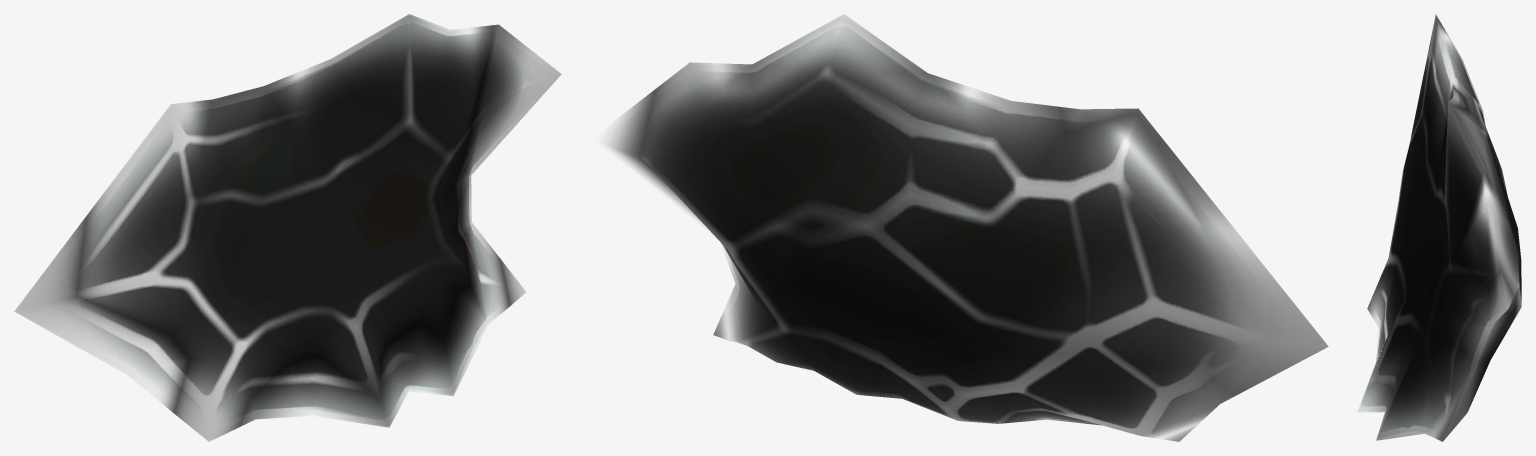
The model's file is item_weashimgm2501-et07.glb.
The picture shows the model from 3 angles, left to right: view 1: azimuth 30°, elevation 25°; view 2: azimuth 150°, elevation 25°; view 3: azimuth 270°, elevation 25°; orthographic projection. The views are drawn at different scales.
Parts seen in each view (by area): view 1: FlyffMesh; view 2: FlyffMesh; view 3: FlyffMesh.
Boxes of the visible parts, <box> form: FlyffMesh: <box>14,14,561,441</box>; FlyffMesh: <box>590,14,1328,441</box>; FlyffMesh: <box>1357,14,1521,441</box>.
Size of the model in its own units: 0.9364 by 0.5498 by 0.24.
1 material, 1 textured.
